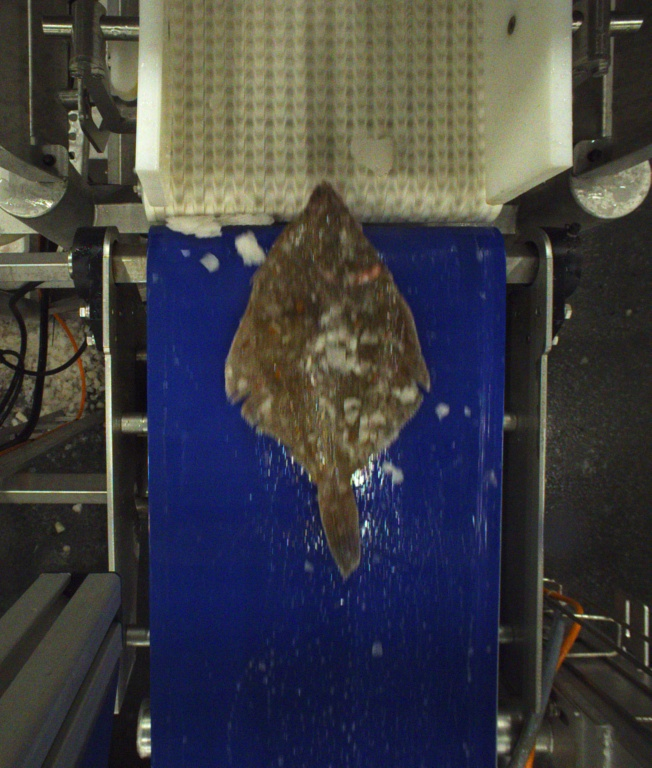PLE: (223, 178, 432, 578)
